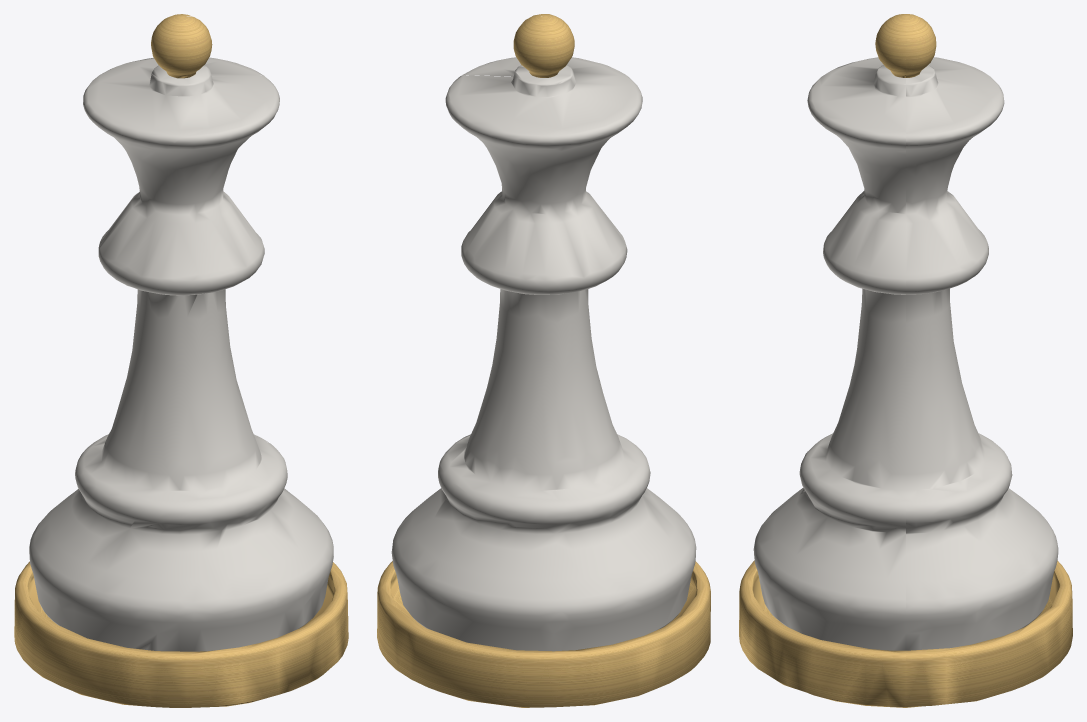
The model's file is queen-white.glb.
3 renders of one model, left to right at view 1: azimuth 30°, elevation 25°; view 2: azimuth 150°, elevation 25°; view 3: azimuth 270°, elevation 25°, orthographic.
Visible parts, largest first — view 1: Aurum Ivoire – Queen; view 2: Aurum Ivoire – Queen; view 3: Aurum Ivoire – Queen.
Part boxes in pixels (<box>): Aurum Ivoire – Queen: <box>14,14,348,707</box>; Aurum Ivoire – Queen: <box>377,14,710,707</box>; Aurum Ivoire – Queen: <box>739,14,1072,707</box>.
Bounding box in the file's own units: 0.7391 × 1.52 × 0.7397.
Materials: 2 (1 with a texture image).
